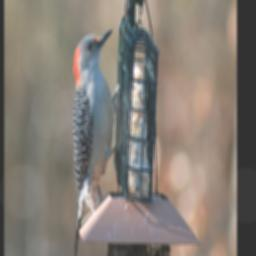Woodpecker: (72, 23, 123, 256)
